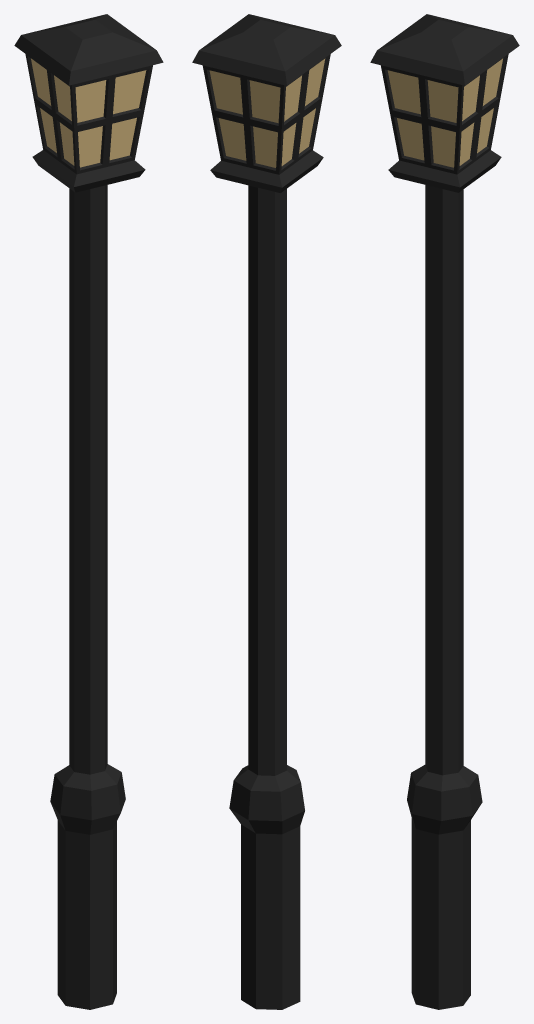
File: OldLamp.fbx
The picture shows the model from 3 angles, left to right: view 1: azimuth 30°, elevation 25°; view 2: azimuth 150°, elevation 25°; view 3: azimuth 330°, elevation 25°; orthographic projection.
Visible parts, largest first — view 1: OldLamp; view 2: OldLamp; view 3: OldLamp.
Boxes of the visible parts, x1=… form: OldLamp: x1=14, y1=14, x2=163, y2=1009; OldLamp: x1=192, y1=14, x2=341, y2=1009; OldLamp: x1=370, y1=14, x2=519, y2=1009.
Bounding box in the file's own units: 27.73 × 270 × 27.73.
